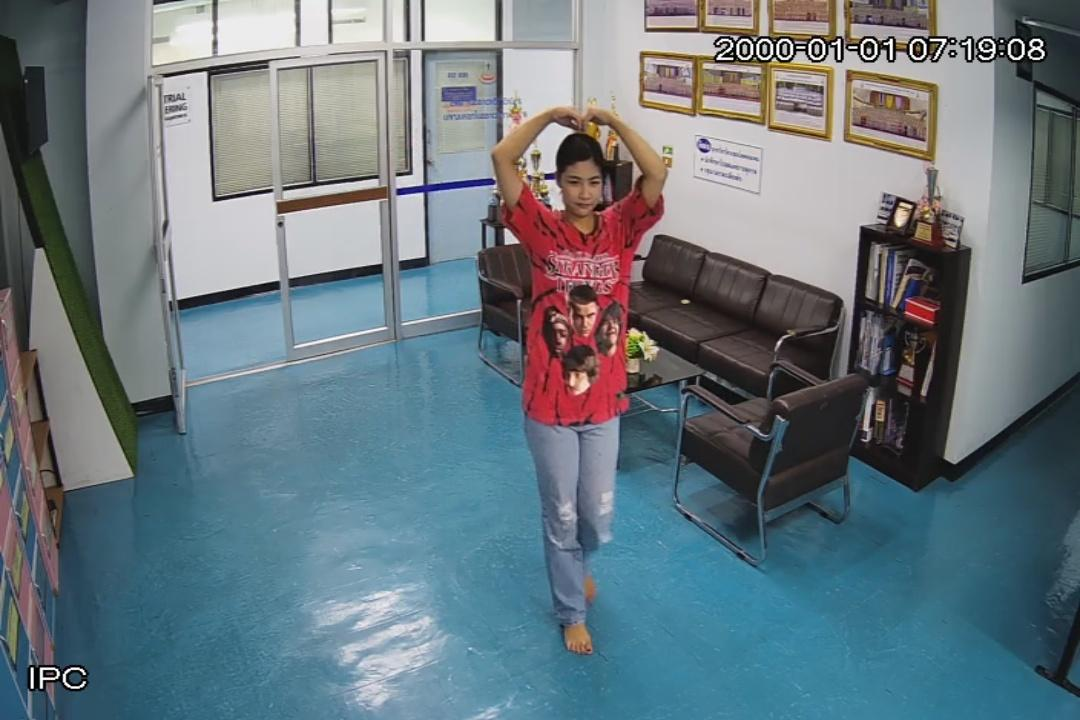normal: (492, 110, 668, 660)
